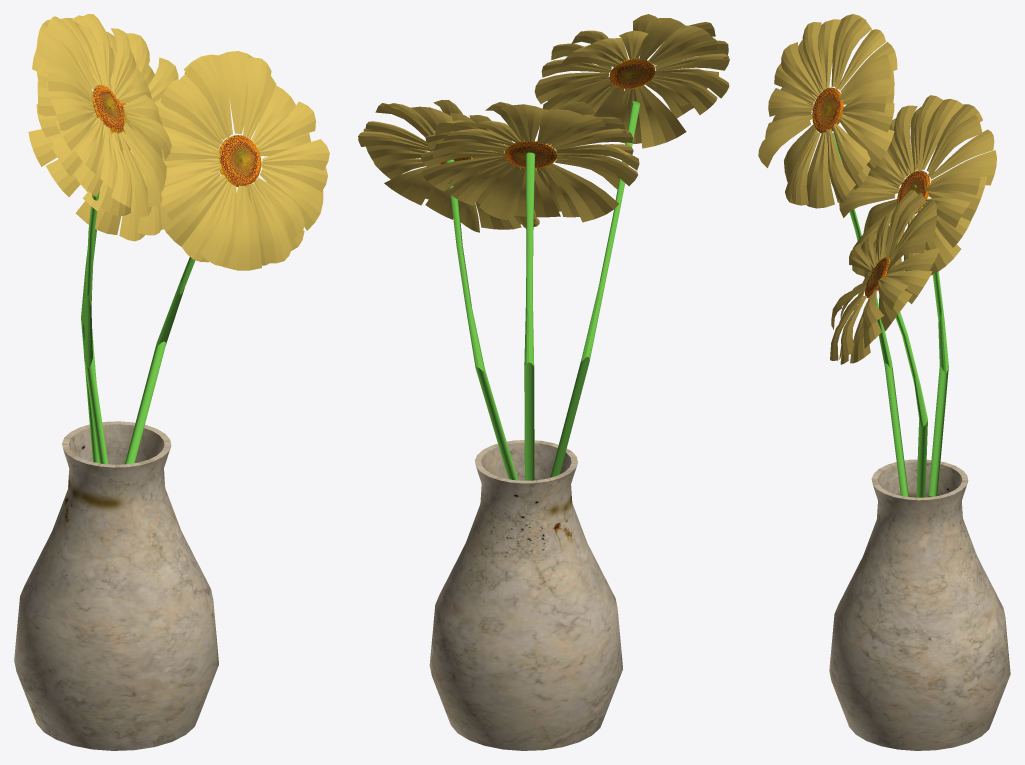
The model's file is pot2.glb.
The picture shows the model from 3 angles, left to right: view 1: azimuth 30°, elevation 25°; view 2: azimuth 150°, elevation 25°; view 3: azimuth 270°, elevation 25°; orthographic projection. The views are drawn at different scales.
Parts seen in each view (by area): view 1: Object_4, Object_3, Object_5, Object_2; view 2: Object_3, Object_4, Object_5, Object_2; view 3: Object_4, Object_3, Object_5, Object_2.
Part boxes in pixels (x1,y1,x2,y2): Object_4: (28,14,329,270); Object_3: (14,421,218,750); Object_5: (81,152,242,464); Object_2: (92,85,261,186); Object_3: (429,440,622,750); Object_4: (358,14,729,232); Object_5: (446,101,640,480); Object_2: (439,58,655,168); Object_4: (758,14,996,364); Object_3: (829,459,1010,750); Object_5: (832,133,948,497); Object_2: (812,87,930,298).
Size of the model in its own units: 4.83 by 10.63 by 3.68.
Materials: 4 (2 with a texture image).
